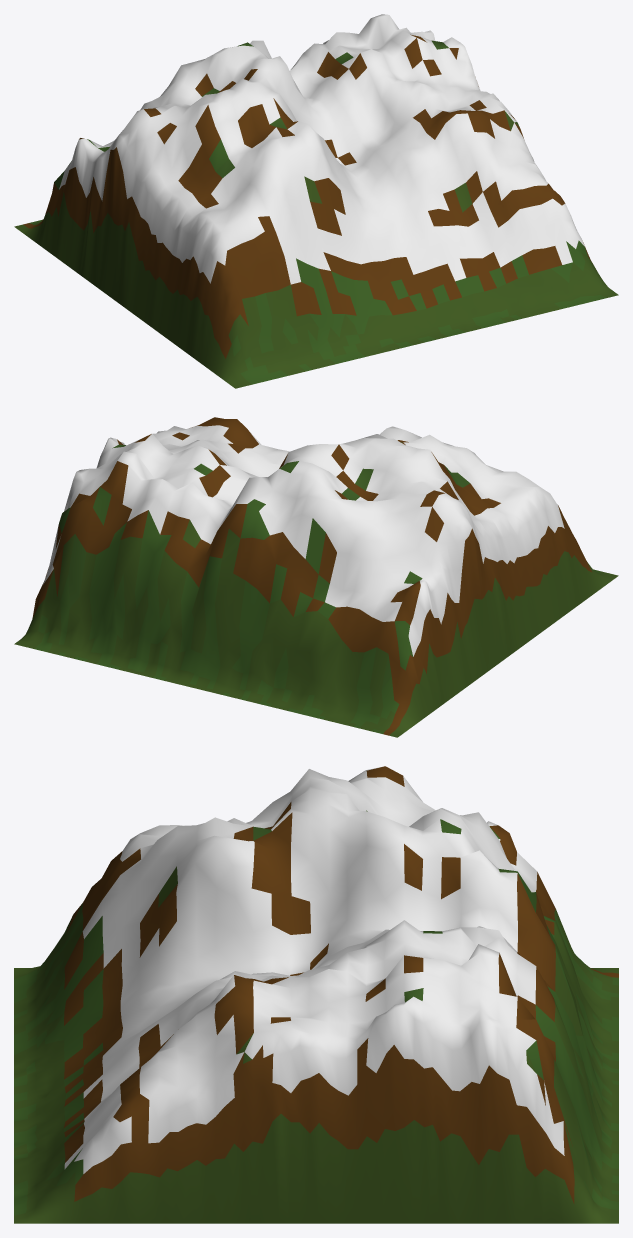
Rendered from S0.mountain.C.glb.
3 views of the same model, one above another, from view 1: azimuth 30°, elevation 25°; view 2: azimuth 150°, elevation 25°; view 3: azimuth 270°, elevation 25° (orthographic). The views are drawn at different scales.
Visible parts, largest first — view 1: Landscape.002; view 2: Landscape.002; view 3: Landscape.002.
Boxes of the visible parts, bbox=[...] form: Landscape.002: bbox=[14, 14, 618, 388]; Landscape.002: bbox=[14, 417, 618, 737]; Landscape.002: bbox=[14, 766, 618, 1223].
Bounding box in the file's own units: 303 × 144 × 303.
